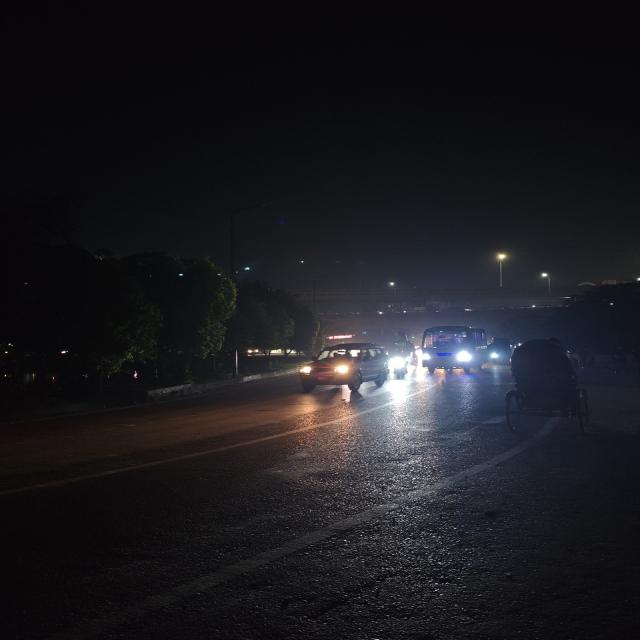bus: (416, 324, 490, 374)
car: (290, 340, 392, 396)
rickshaw: (502, 335, 594, 432)
